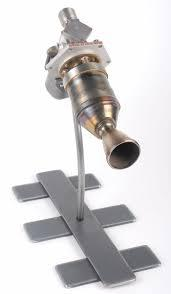thruster: (100, 124, 140, 171), (57, 6, 80, 29)
